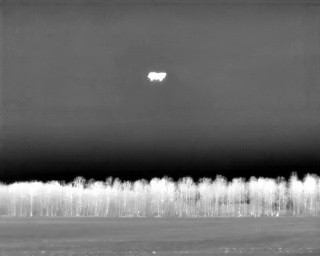DRONE: (143, 67, 170, 87)
